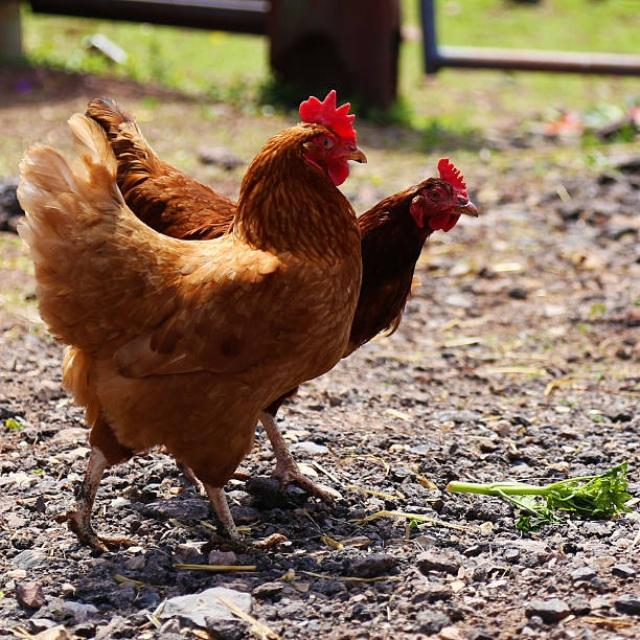Chicken: (17, 90, 368, 552), (84, 97, 480, 504)
